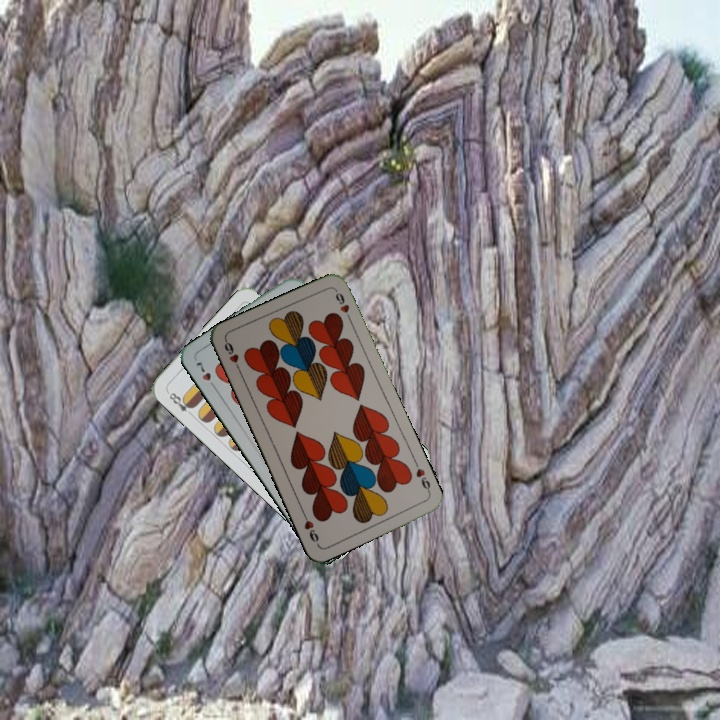E8: (164, 387, 197, 419)
H7: (191, 358, 219, 392)
H9: (220, 337, 244, 375), (411, 458, 433, 496)
